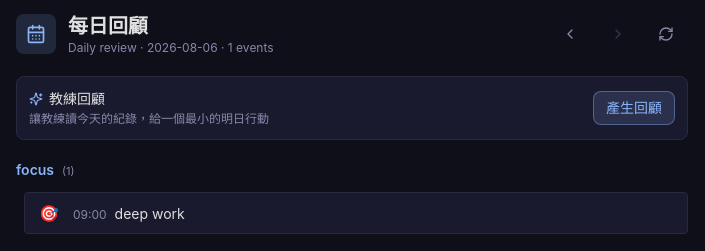
Test case: CoachReviewReader (macOS daily review) › does NOT crash when generateReview rejects on the coach pass
The image size is (705, 251).
// Wait for the load to settle so the generate CTA renders.
Click the button "產生回顧" at (634, 108), box x1=593 y1=91 x2=675 y2=125
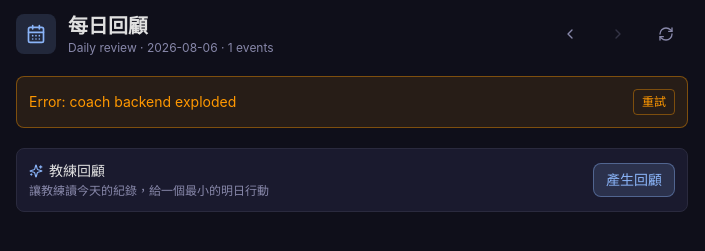
Now the message "Error: coach backend exploded 重試" is shown, box x1=16 y1=76 x2=688 y2=128
